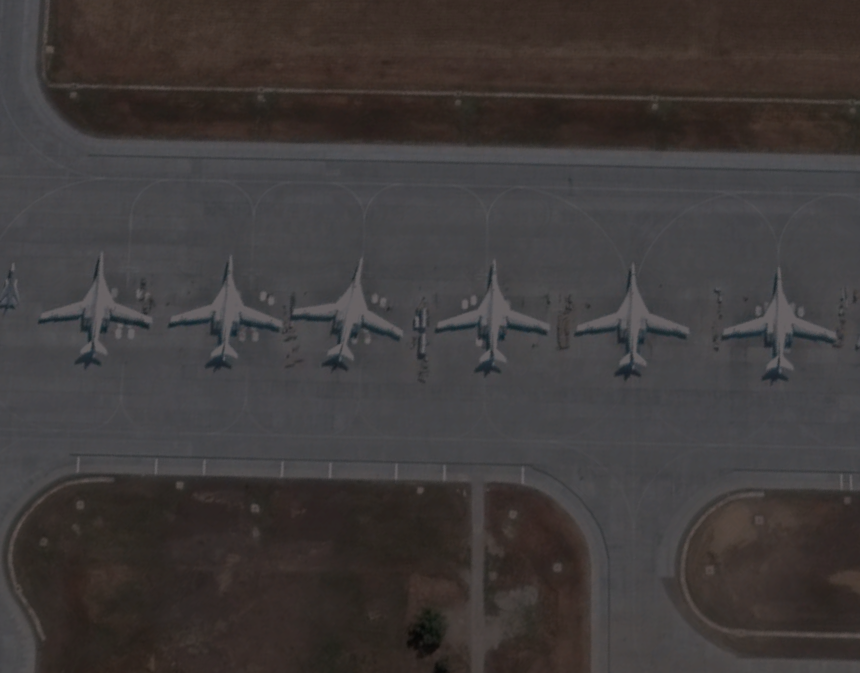A20: (2, 256, 24, 313)
A6: (38, 245, 158, 370), (163, 247, 283, 372), (289, 248, 409, 373), (432, 250, 552, 375), (574, 258, 694, 383), (720, 257, 840, 382)
